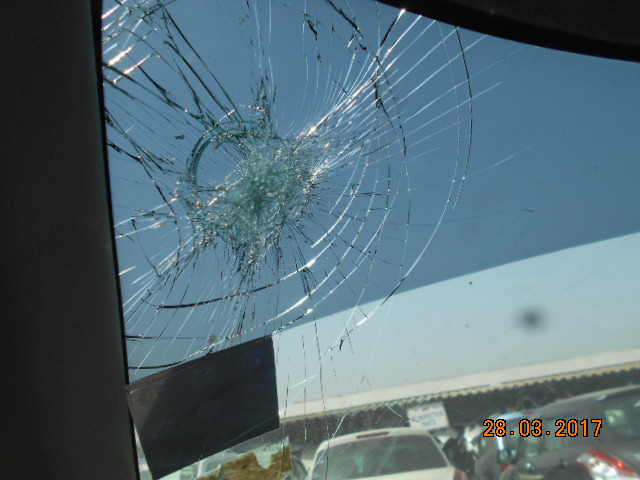Shatter: (123, 6, 425, 359)
